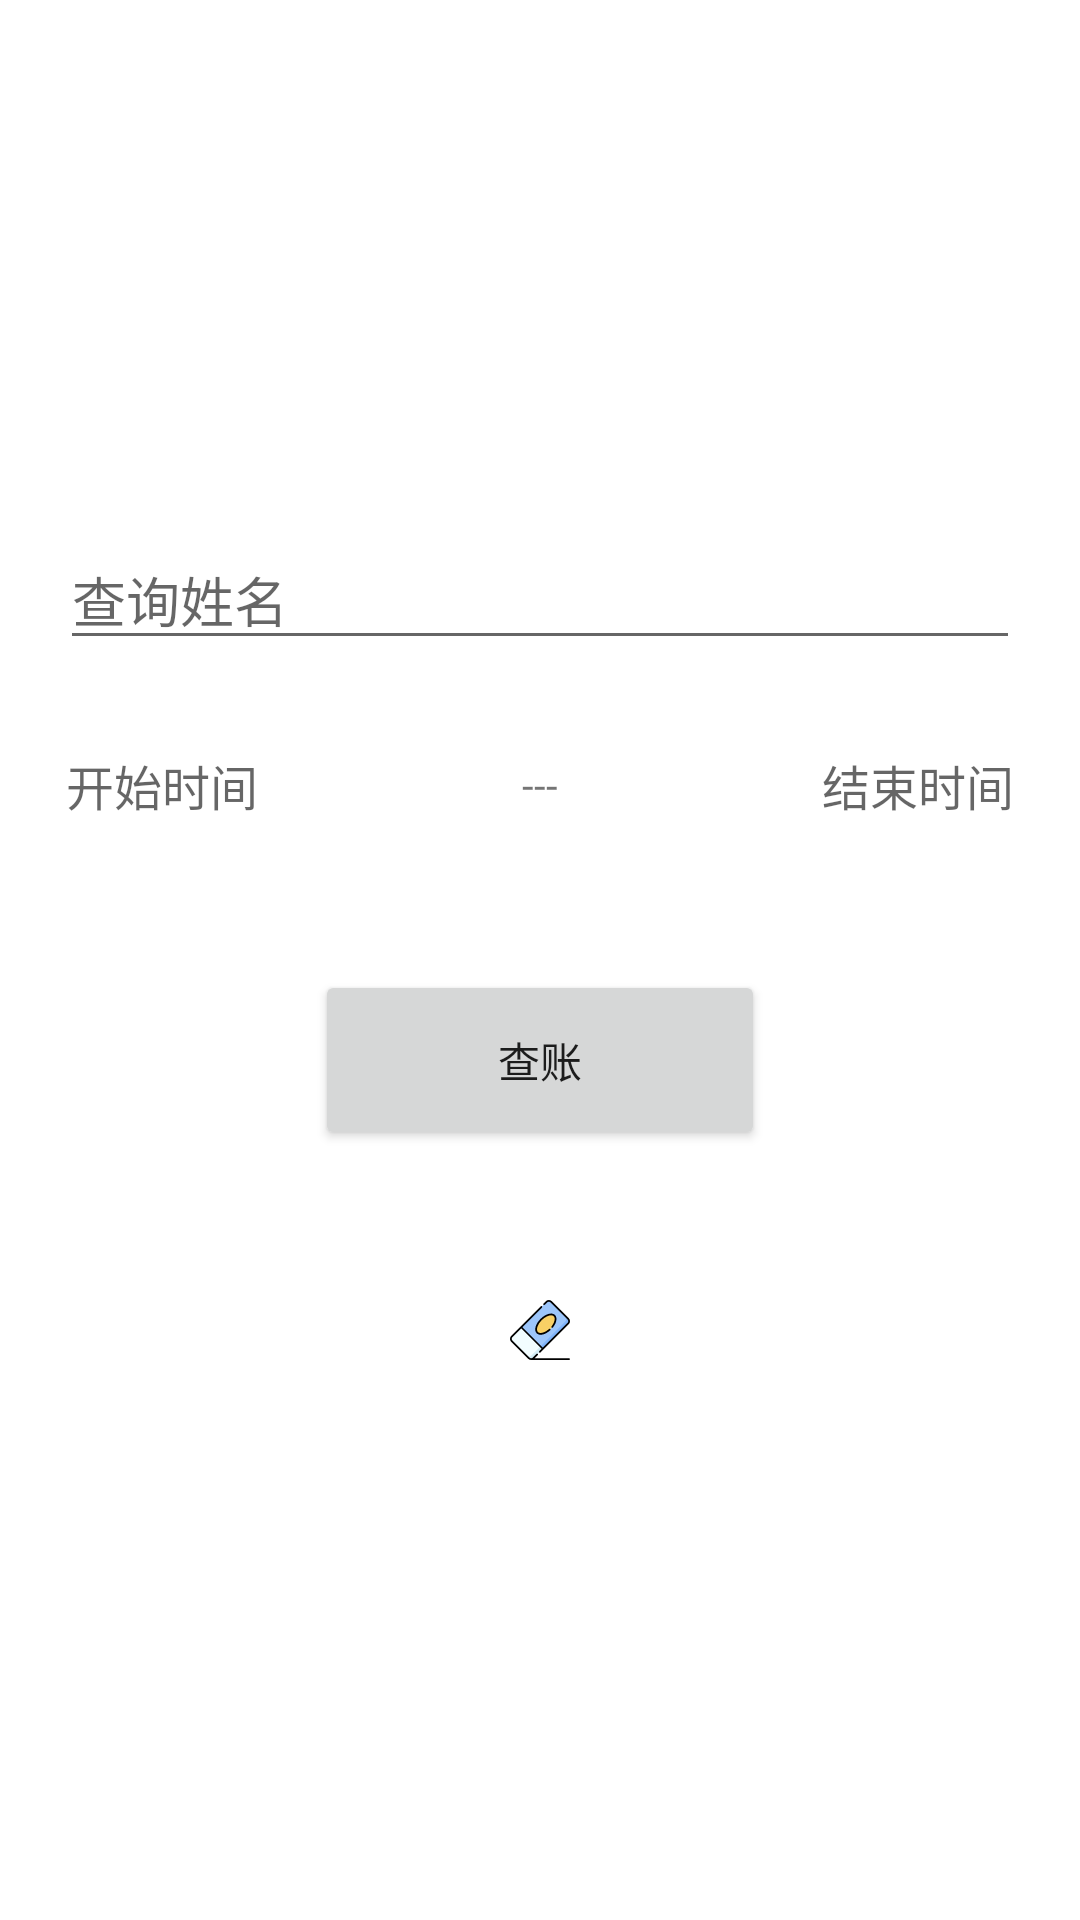

Screen size 1080 × 1920. Icon name, then its box in pixels as Rect(x1, y1, x2, y2):
eraser: Rect(510, 1300, 570, 1360)
